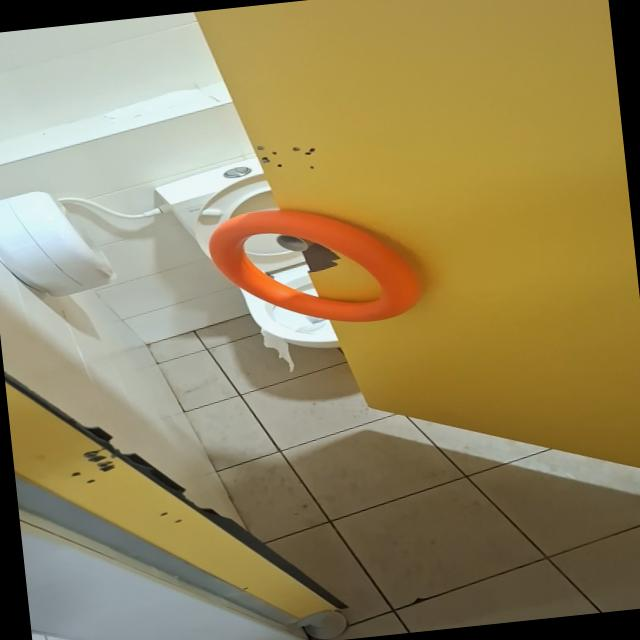note: (203, 192, 425, 339)
